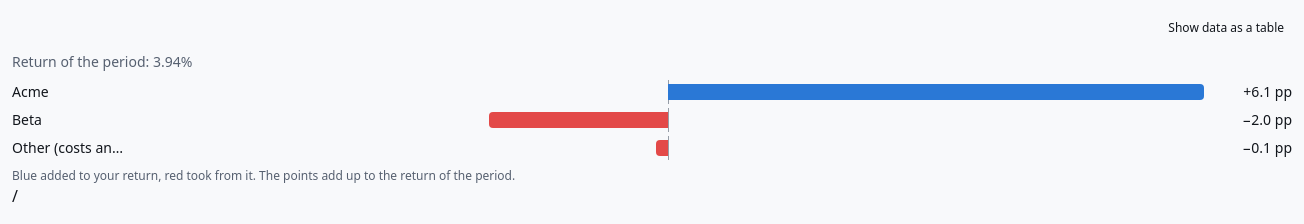
Scenario: attribution (FR-PF-07) › shows points on the bars, opens the position, and gives euro and points in the table
Click the button named "Acme: +6.1 pp" at (668, 92), box [132,80,1204,104]
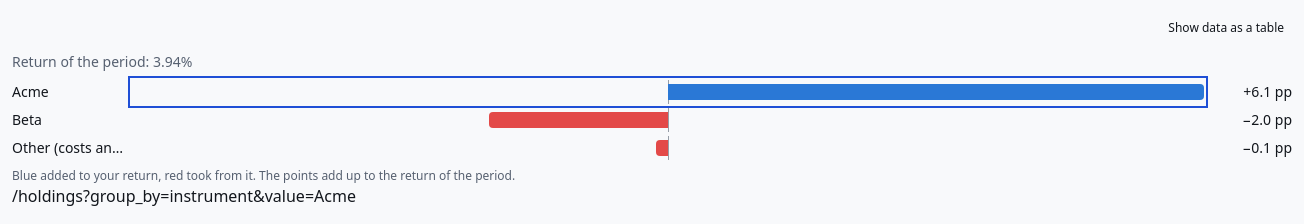
Check: the text "Return of the period: 3.94%" is shown, box [12,52,192,71]
Check: the text with test id "where" reads "/holdings?group_by=instrument&value=Acme", box [12,185,356,207]
Click the button "Show data as a table" at (1226, 28), box [1160,12,1292,44]
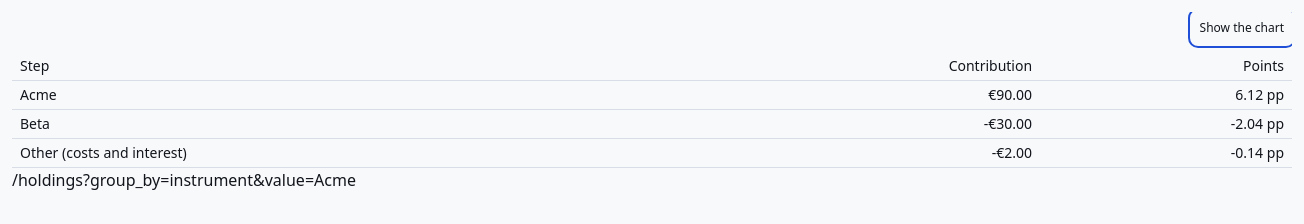
Check: the row "Beta -€30.00 -2.04 pp" is shown, box [12,110,1292,138]
